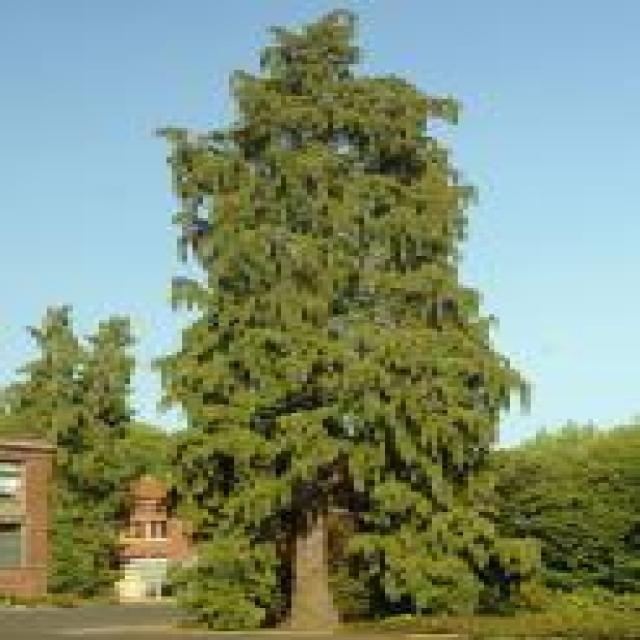Chamaecyparis lawsoniana: (120, 6, 541, 640)
